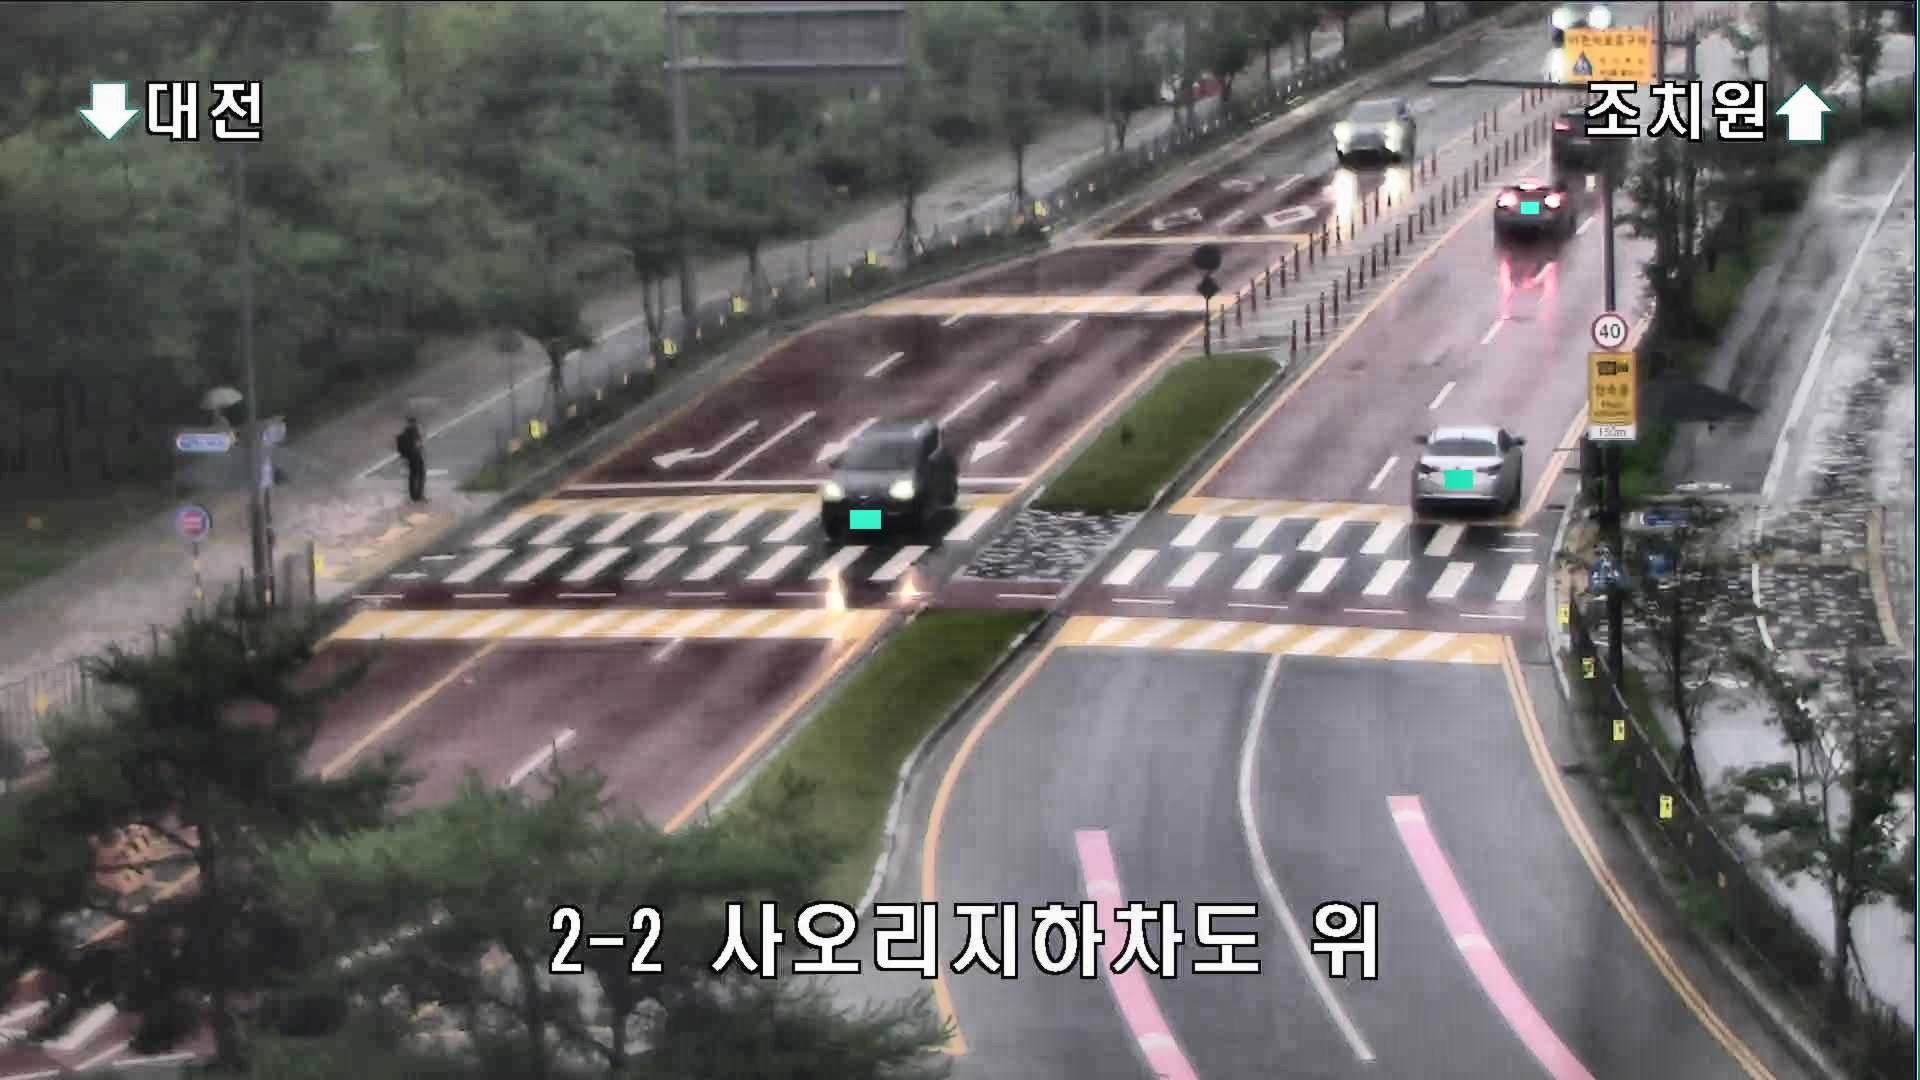um_sidewalk: (390, 396, 458, 505), (194, 385, 245, 475)
